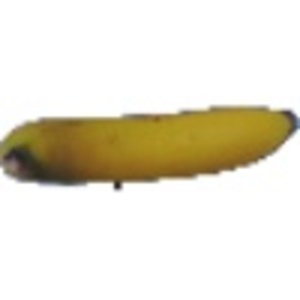banana: (2, 88, 297, 193)
